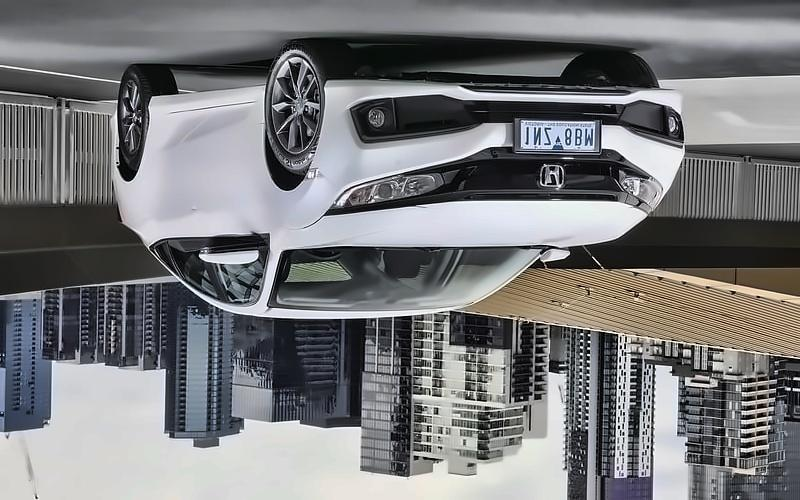Car hood: (278, 198, 649, 249)
Fender - -F-L-: (246, 94, 345, 246)
Fender - -R-L-: (117, 96, 176, 244)
Front bumper: (320, 76, 696, 166)
Headlight - -L-: (330, 169, 450, 214)
Headlight - -R-: (616, 166, 664, 217)
Passenger-s door - -F-L-: (199, 100, 270, 324)
Passenger-s door - -R-L-: (144, 104, 197, 305)
Rear bumper: (57, 110, 141, 184)
Side bumper - -L-: (146, 83, 269, 119)
Side mirror - -L-: (198, 241, 263, 267)
Side mirror - -R-: (538, 246, 574, 267)
